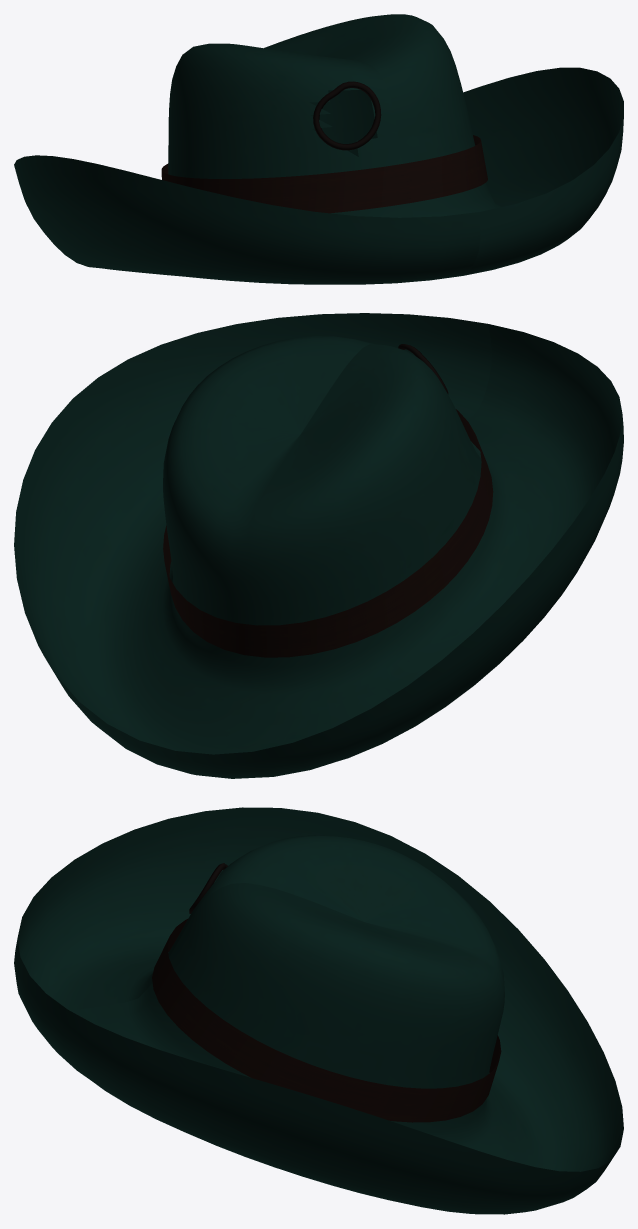
The model's file is hat.holed-stetson.gltf.
3 renders of one model, top to bottom at view 1: azimuth 30°, elevation 25°; view 2: azimuth 150°, elevation 25°; view 3: azimuth 270°, elevation 25°, orthographic. The views are drawn at different scales.
Parts seen in each view (by area): view 1: Head; view 2: Head; view 3: Head.
Boxes of the visible parts, <box> form: Head: <box>14,14,623,284</box>; Head: <box>14,313,623,778</box>; Head: <box>14,807,623,1214</box>.
Bounding box in the file's own units: 0.386 × 0.2174 × 0.3984.
1 material, 1 textured.
